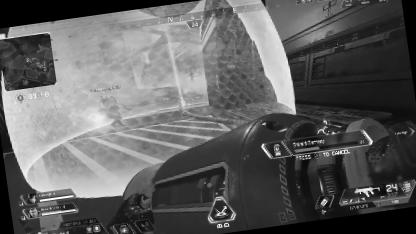Target: (99, 92, 131, 130)
